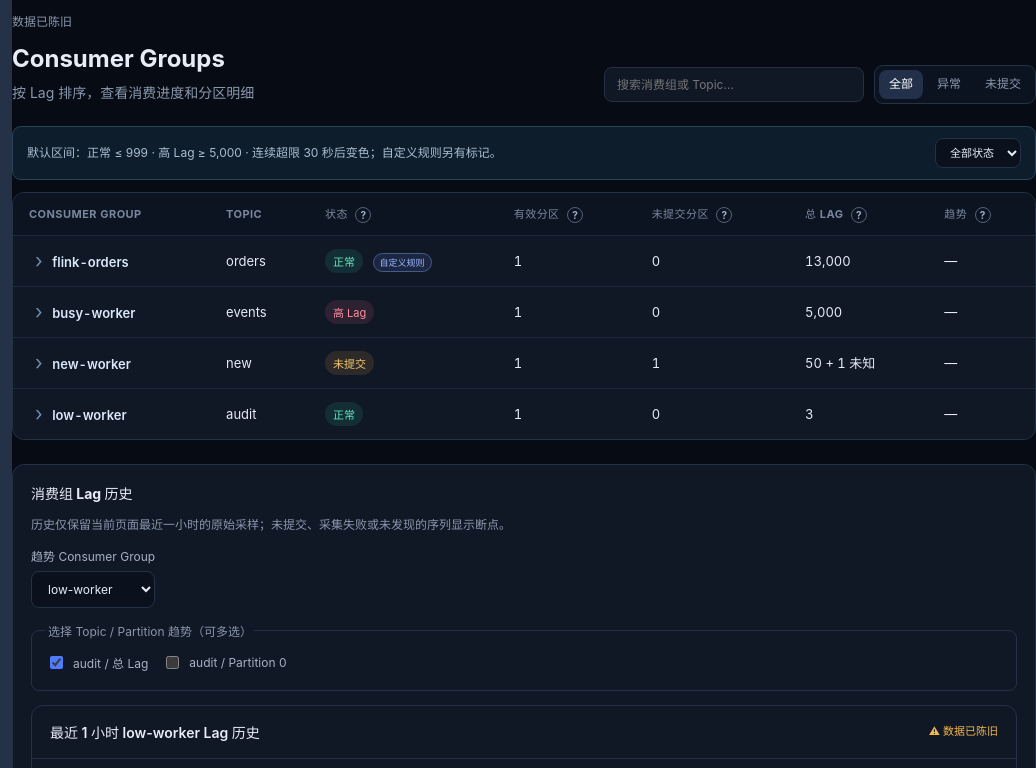
Test: shows known lag plus unknown partitions and expands committed offsets without coercing null
Expected: the text "50 + 1 未知" is shown, [789,337,928,388]
Step 1. Click the button named "展开 new-worker / new" → (39, 363), box [29,353,49,373]
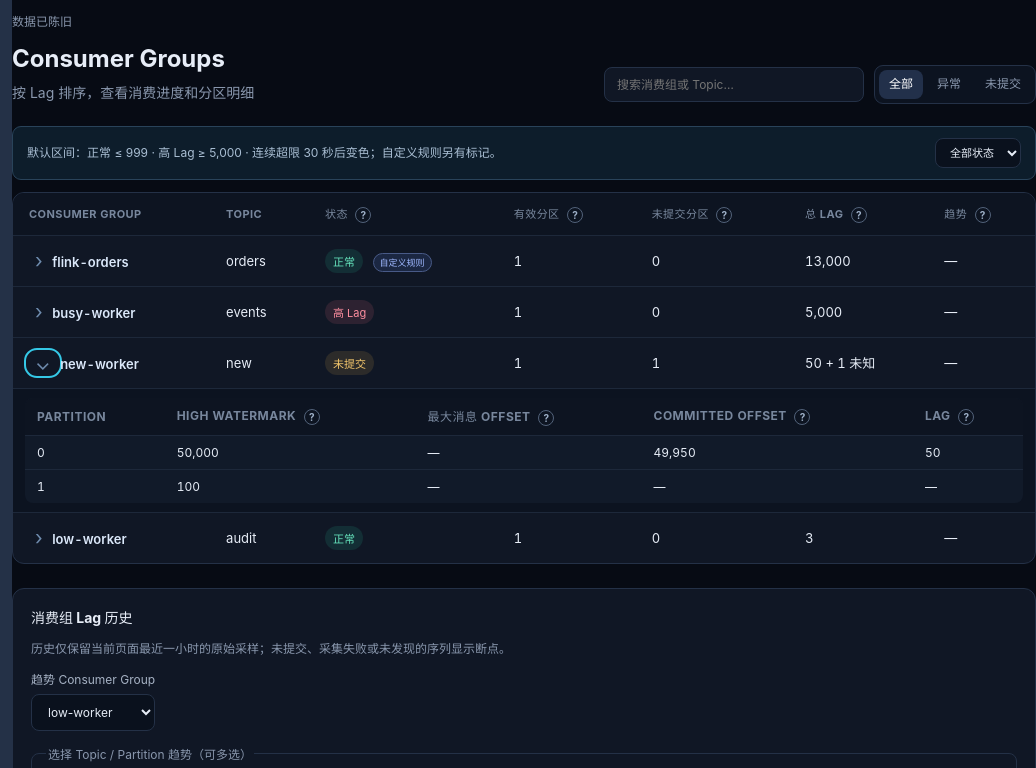
Expected: the cells read "1", "100", "—", "—", "—", in this order, [25,469,165,503]; [165,469,416,503]; [416,469,642,503]; [642,469,913,503]; [913,469,1023,503]
Expected: the button named "收起 new-worker / new" is expanded, [29,353,57,373]
